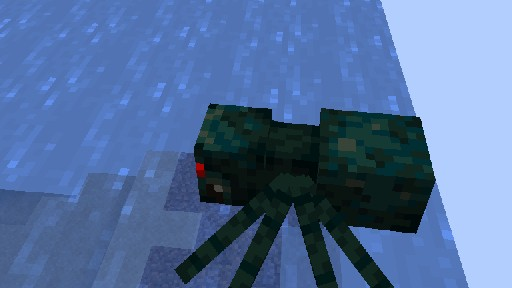cave_spider: (173, 102, 435, 288)
